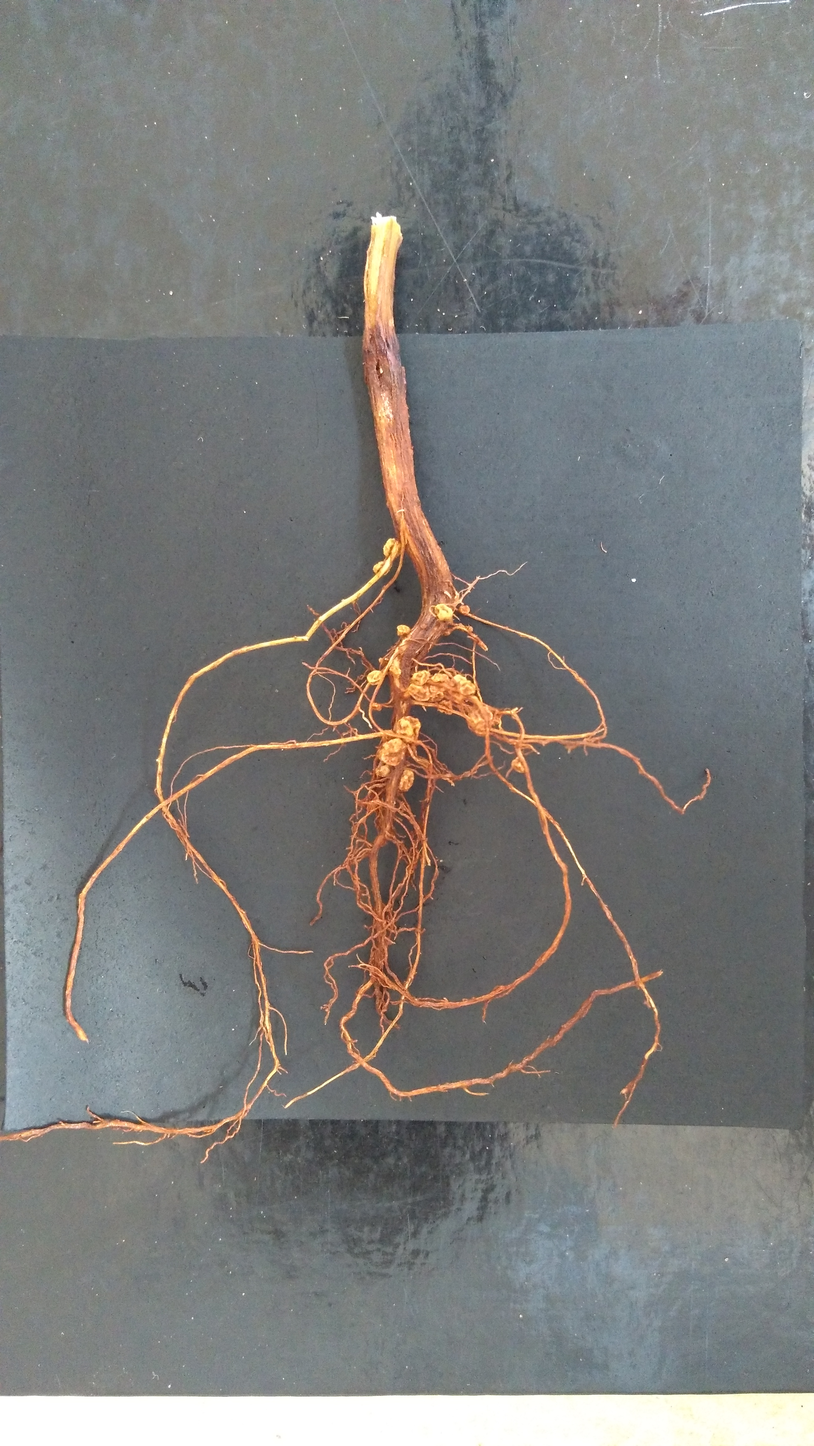nodule: (390, 714, 423, 745), (375, 736, 408, 767), (465, 704, 494, 737), (451, 671, 477, 696), (395, 768, 417, 795), (406, 682, 431, 703), (381, 537, 403, 559), (434, 602, 454, 622), (371, 559, 393, 577), (410, 669, 430, 687), (388, 656, 402, 681), (509, 756, 526, 776), (366, 669, 385, 686), (374, 763, 392, 779), (395, 623, 412, 637), (431, 671, 450, 683), (458, 603, 472, 616), (370, 701, 383, 712), (377, 657, 383, 663)
